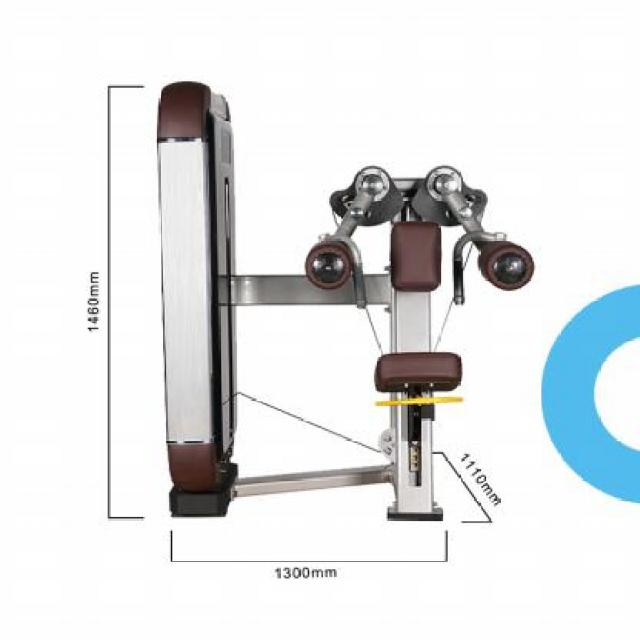lateral raises machine: (158, 82, 534, 520)
